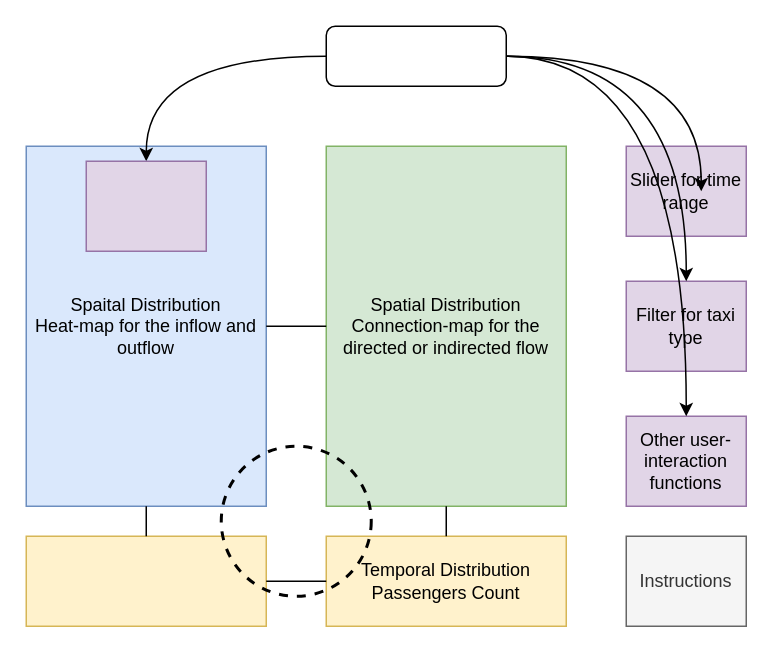
Image size: 773x653. Some labels were removed from this diagram. Each missing label, with the centre of its shape:
Spatial selection function: (145,205)
Temporal Distribution Trip Count: (145,580)
The data used keeps the same after slection and filtering: (295,520)
User Interaction: (415,55)
